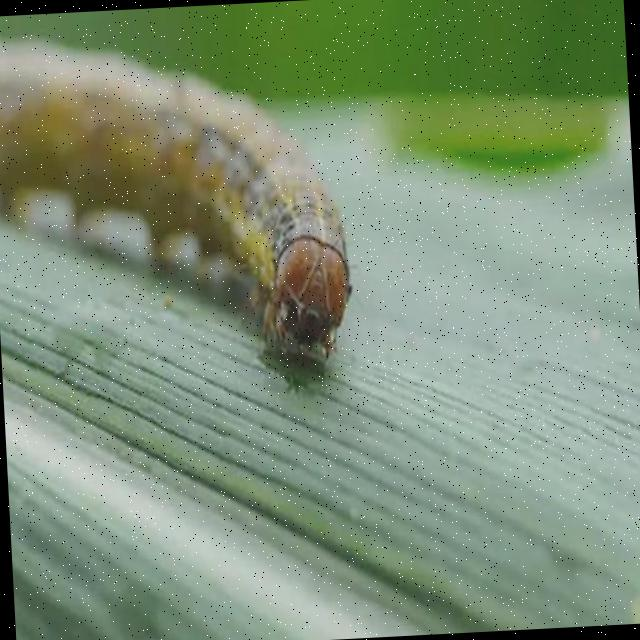worm: (1, 12, 361, 395)
